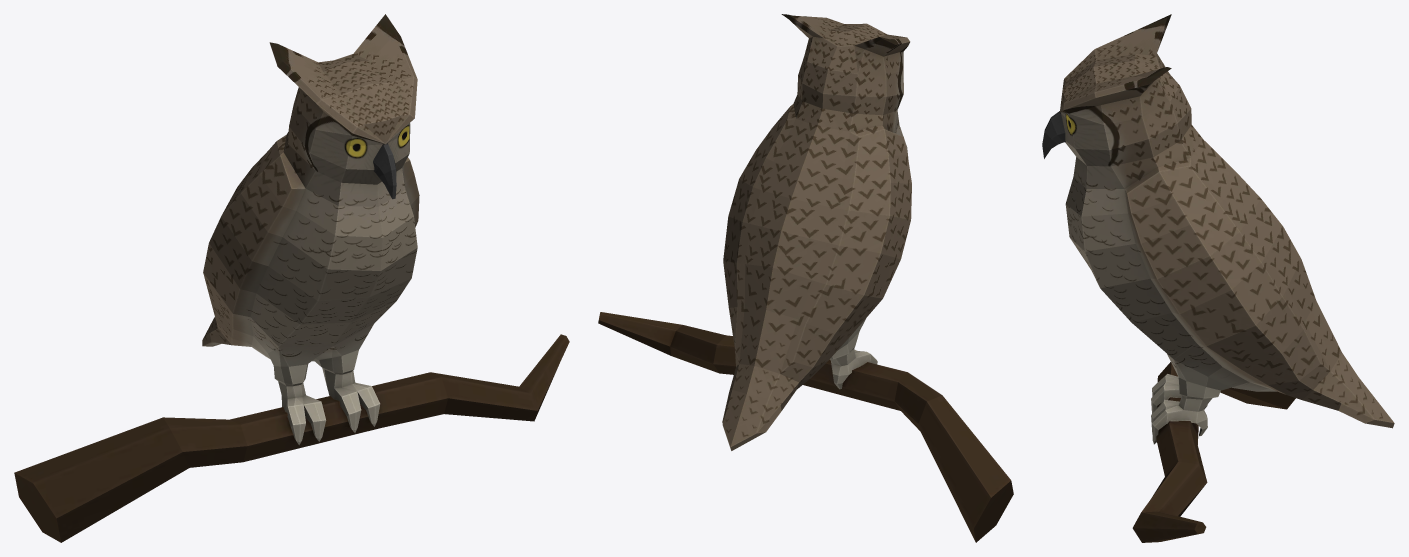
The model's file is owl.glb.
3 views of the same model, side by side, from view 1: azimuth 30°, elevation 25°; view 2: azimuth 150°, elevation 25°; view 3: azimuth 270°, elevation 25° (orthographic). The views are drawn at different scales.
Parts seen in each view (by area): view 1: GreatHornedOwl_mesh; view 2: GreatHornedOwl_mesh; view 3: GreatHornedOwl_mesh.
Boxes of the visible parts, x1=… form: GreatHornedOwl_mesh: x1=14, y1=14, x2=569, y2=542; GreatHornedOwl_mesh: x1=598, y1=14, x2=1013, y2=542; GreatHornedOwl_mesh: x1=1042, y1=14, x2=1394, y2=542.
Bounding box in the file's own units: 0.4814 × 0.45 × 0.3032.
Materials: 1 (1 with a texture image).
